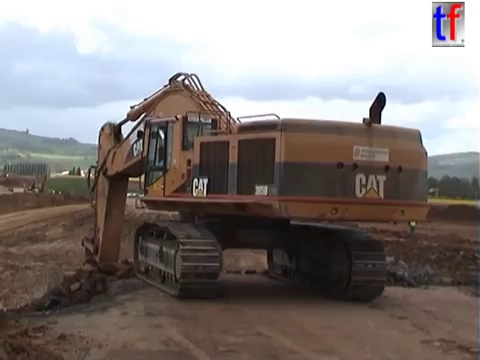excavator: (59, 69, 433, 304), (23, 172, 50, 197)
worker: (406, 209, 420, 235)
